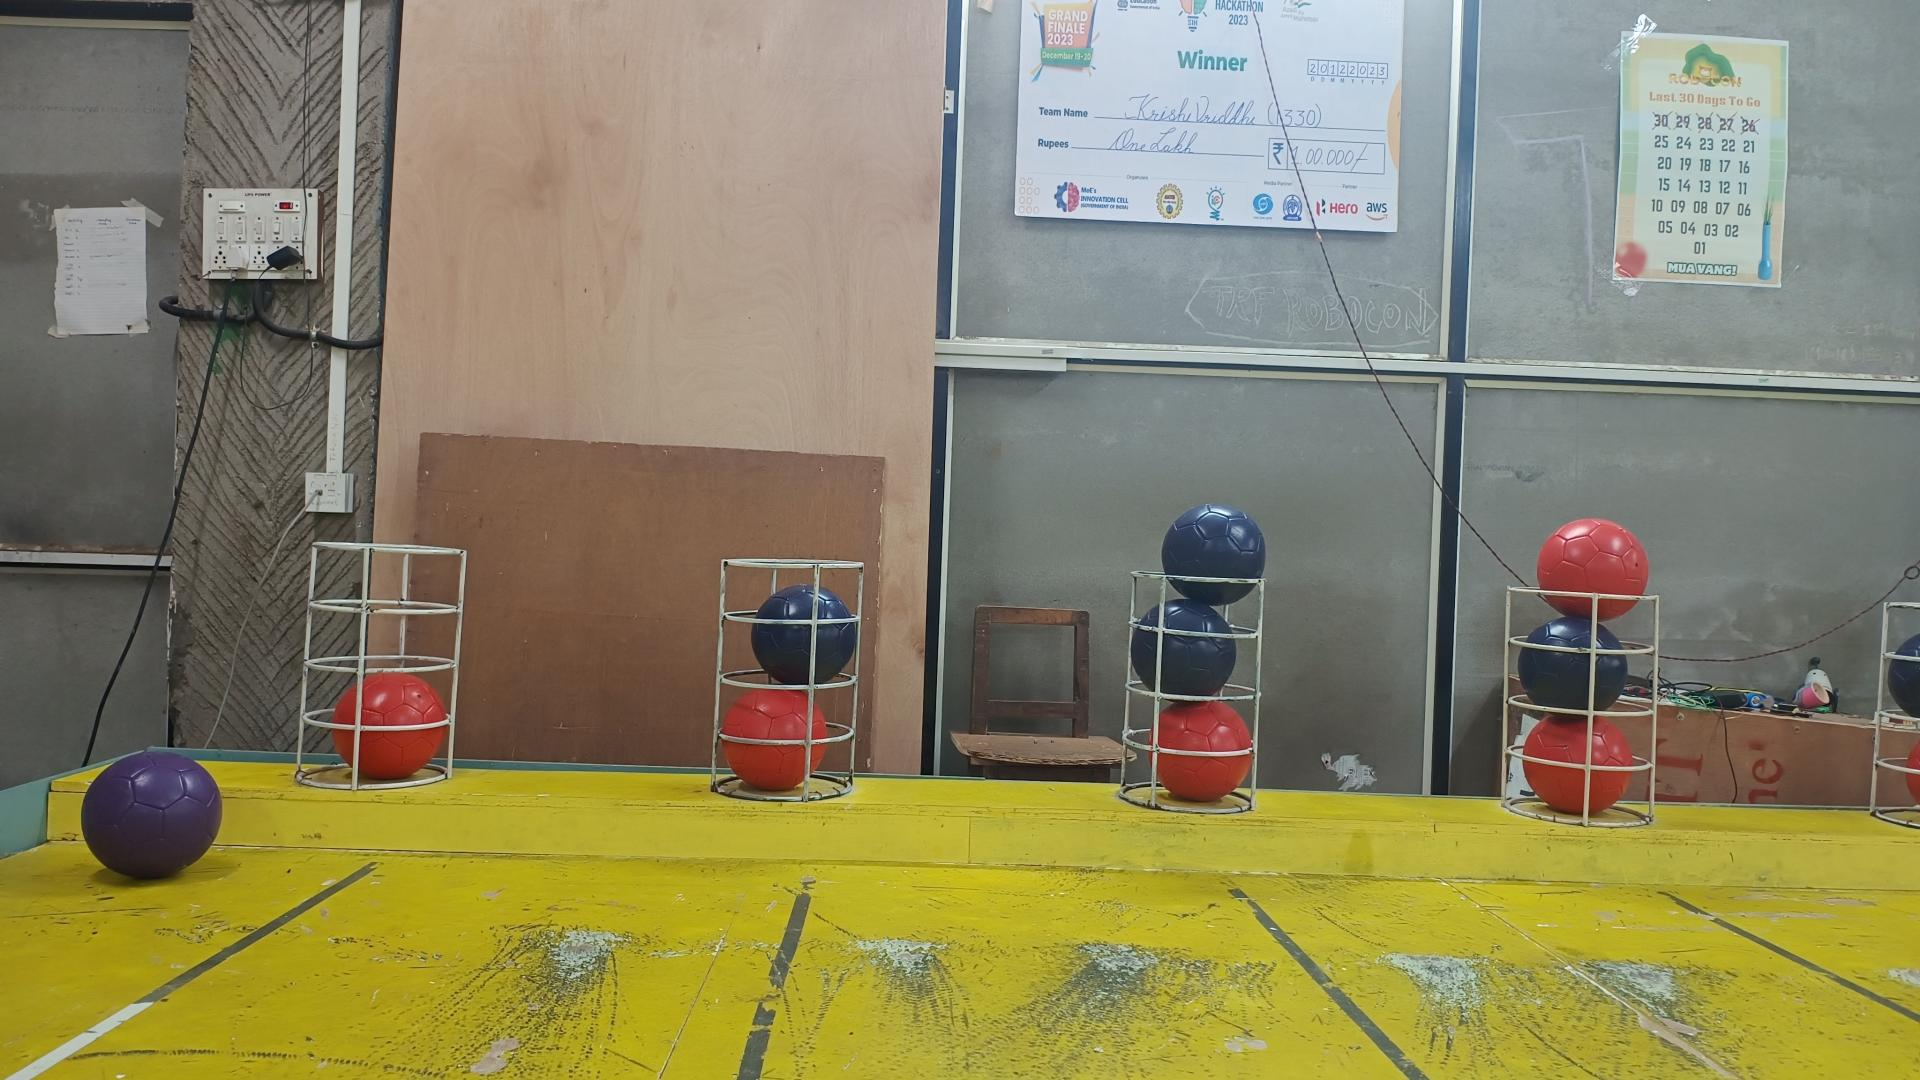dhoka: (1163, 502, 1267, 608), (1129, 596, 1237, 698), (750, 585, 858, 686), (1519, 615, 1627, 712), (1886, 634, 1920, 720)
laale: (334, 671, 446, 781), (1538, 517, 1650, 622), (720, 690, 828, 791), (1523, 716, 1635, 814), (1147, 702, 1253, 803), (1905, 742, 1920, 806)
